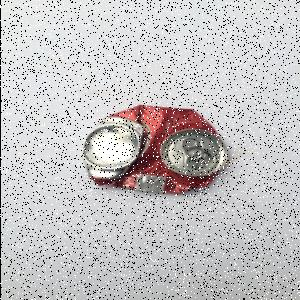Can: (82, 106, 230, 196)
